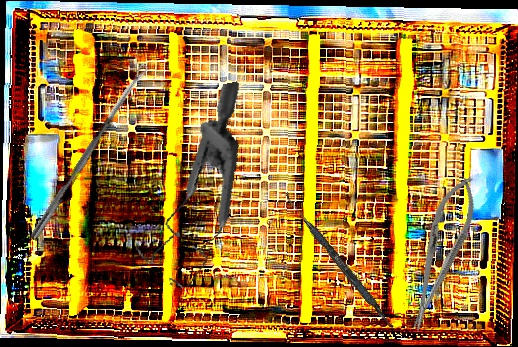Needle Holder: (396, 169, 486, 337)
Spatula Surgical: (279, 191, 402, 335)
Speculum: (104, 81, 281, 296)
Surgical Spoon: (29, 63, 150, 242)
